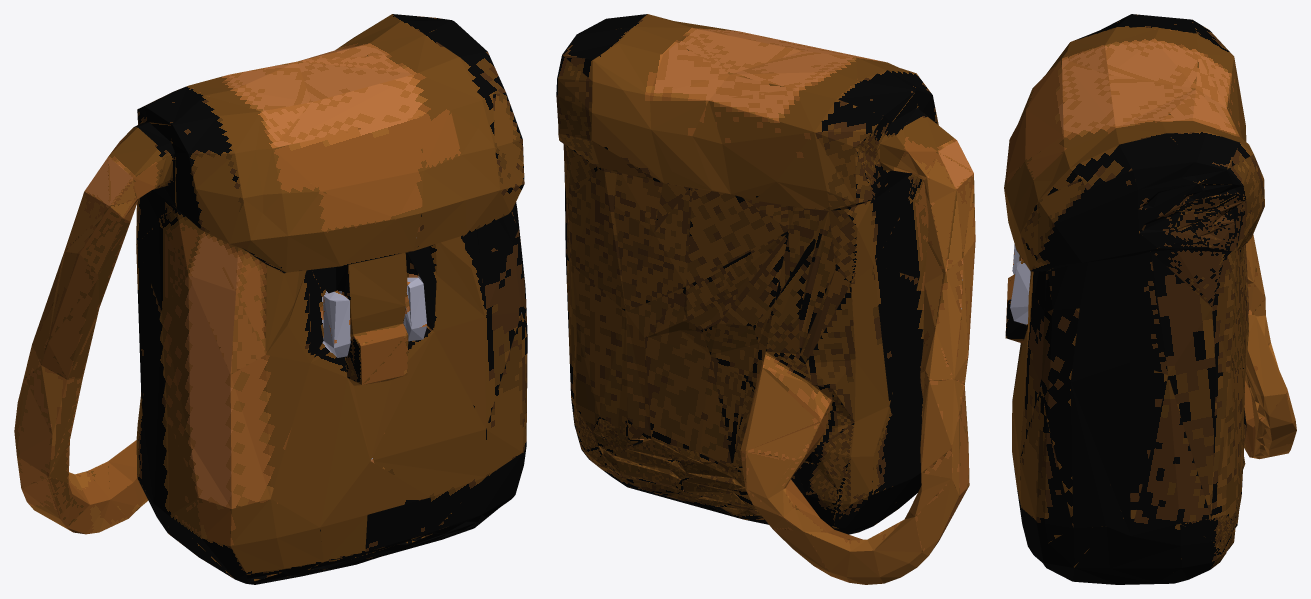
3 renders of one model, left to right at view 1: azimuth 30°, elevation 25°; view 2: azimuth 150°, elevation 25°; view 3: azimuth 270°, elevation 25°, orthographic.
Parts seen in each view (by area): view 1: OBJ082; view 2: OBJ082; view 3: OBJ082.
Boxes of the visible parts, x1=… form: OBJ082: x1=14, y1=14, x2=527, y2=584; OBJ082: x1=556, y1=14, x2=975, y2=584; OBJ082: x1=1004, y1=14, x2=1296, y2=584.
Size of the model in its own units: 0.3153 by 0.3247 by 0.1898.
1 material, 1 textured.
